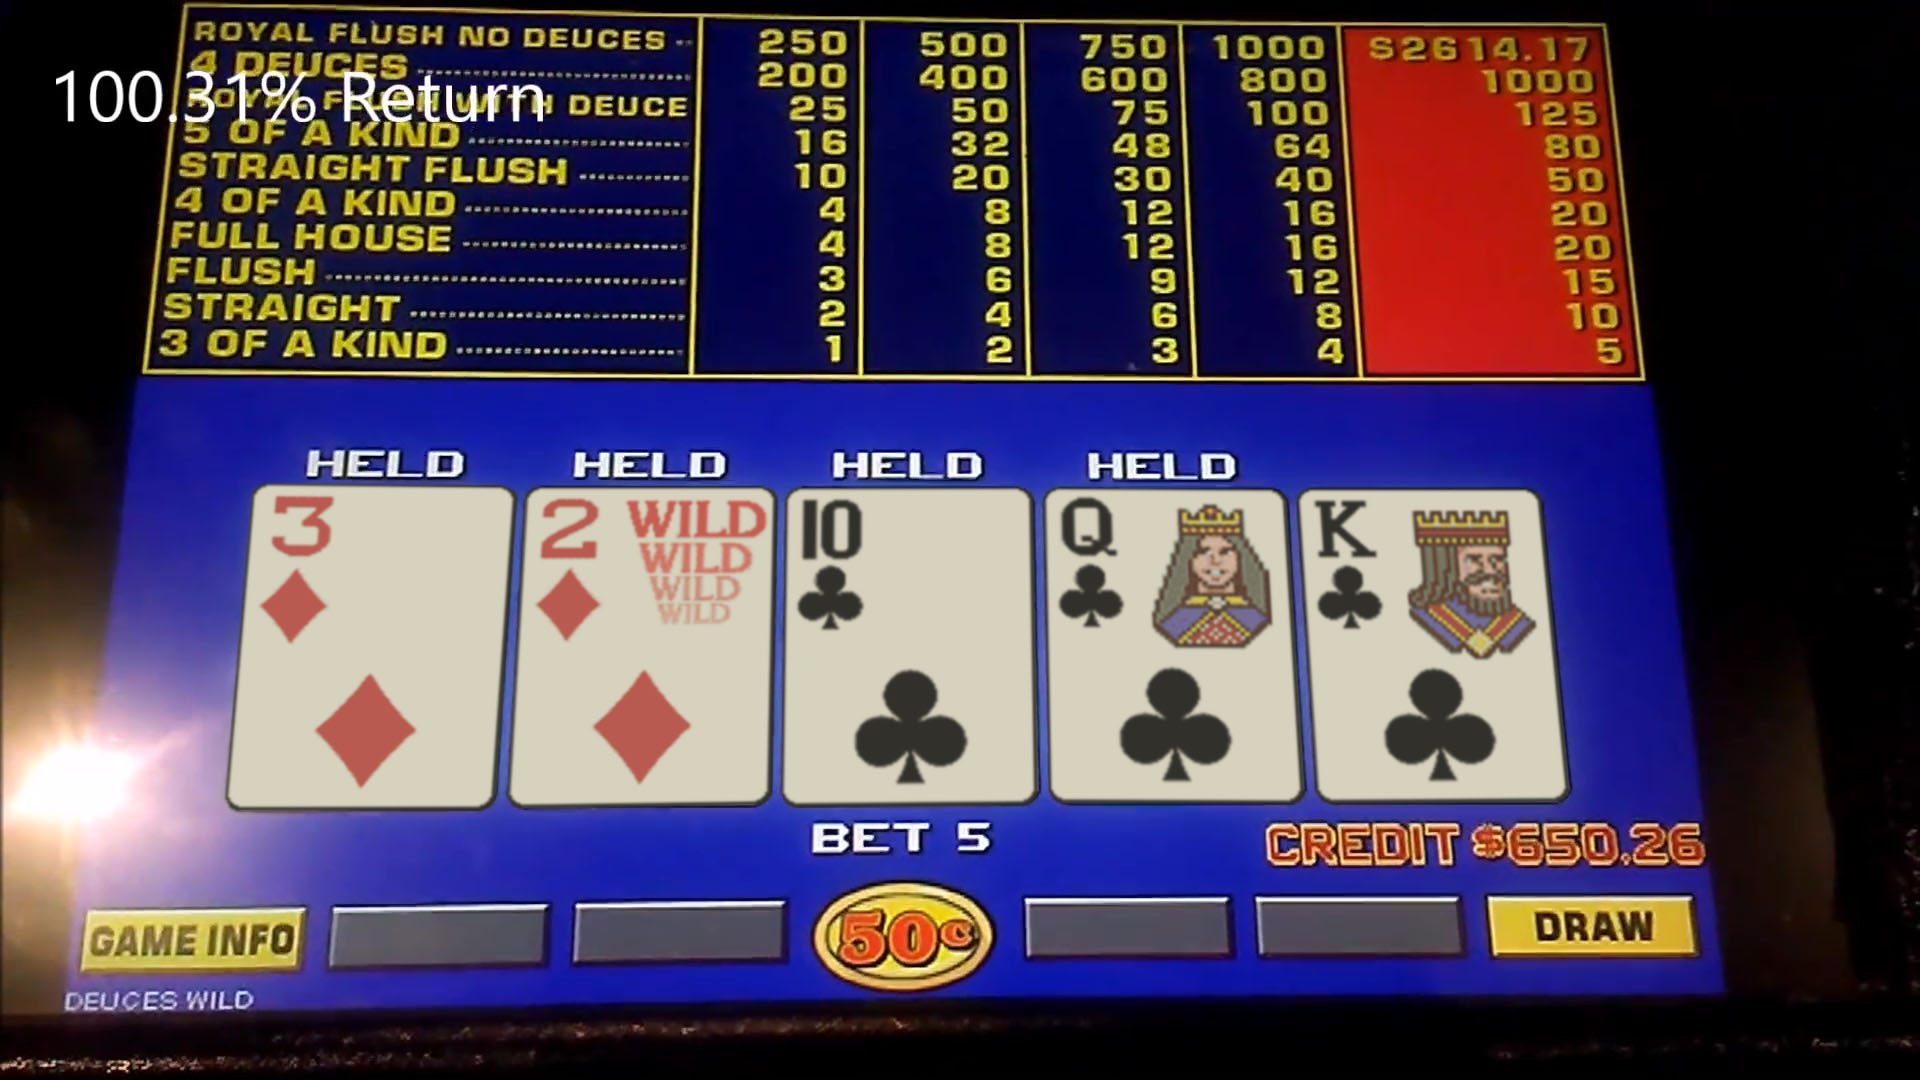CK: (1313, 492, 1549, 802)
CQ: (1048, 492, 1290, 800)
CT: (786, 489, 1035, 803)
D2W: (517, 491, 764, 802)
D3: (247, 487, 498, 808)
